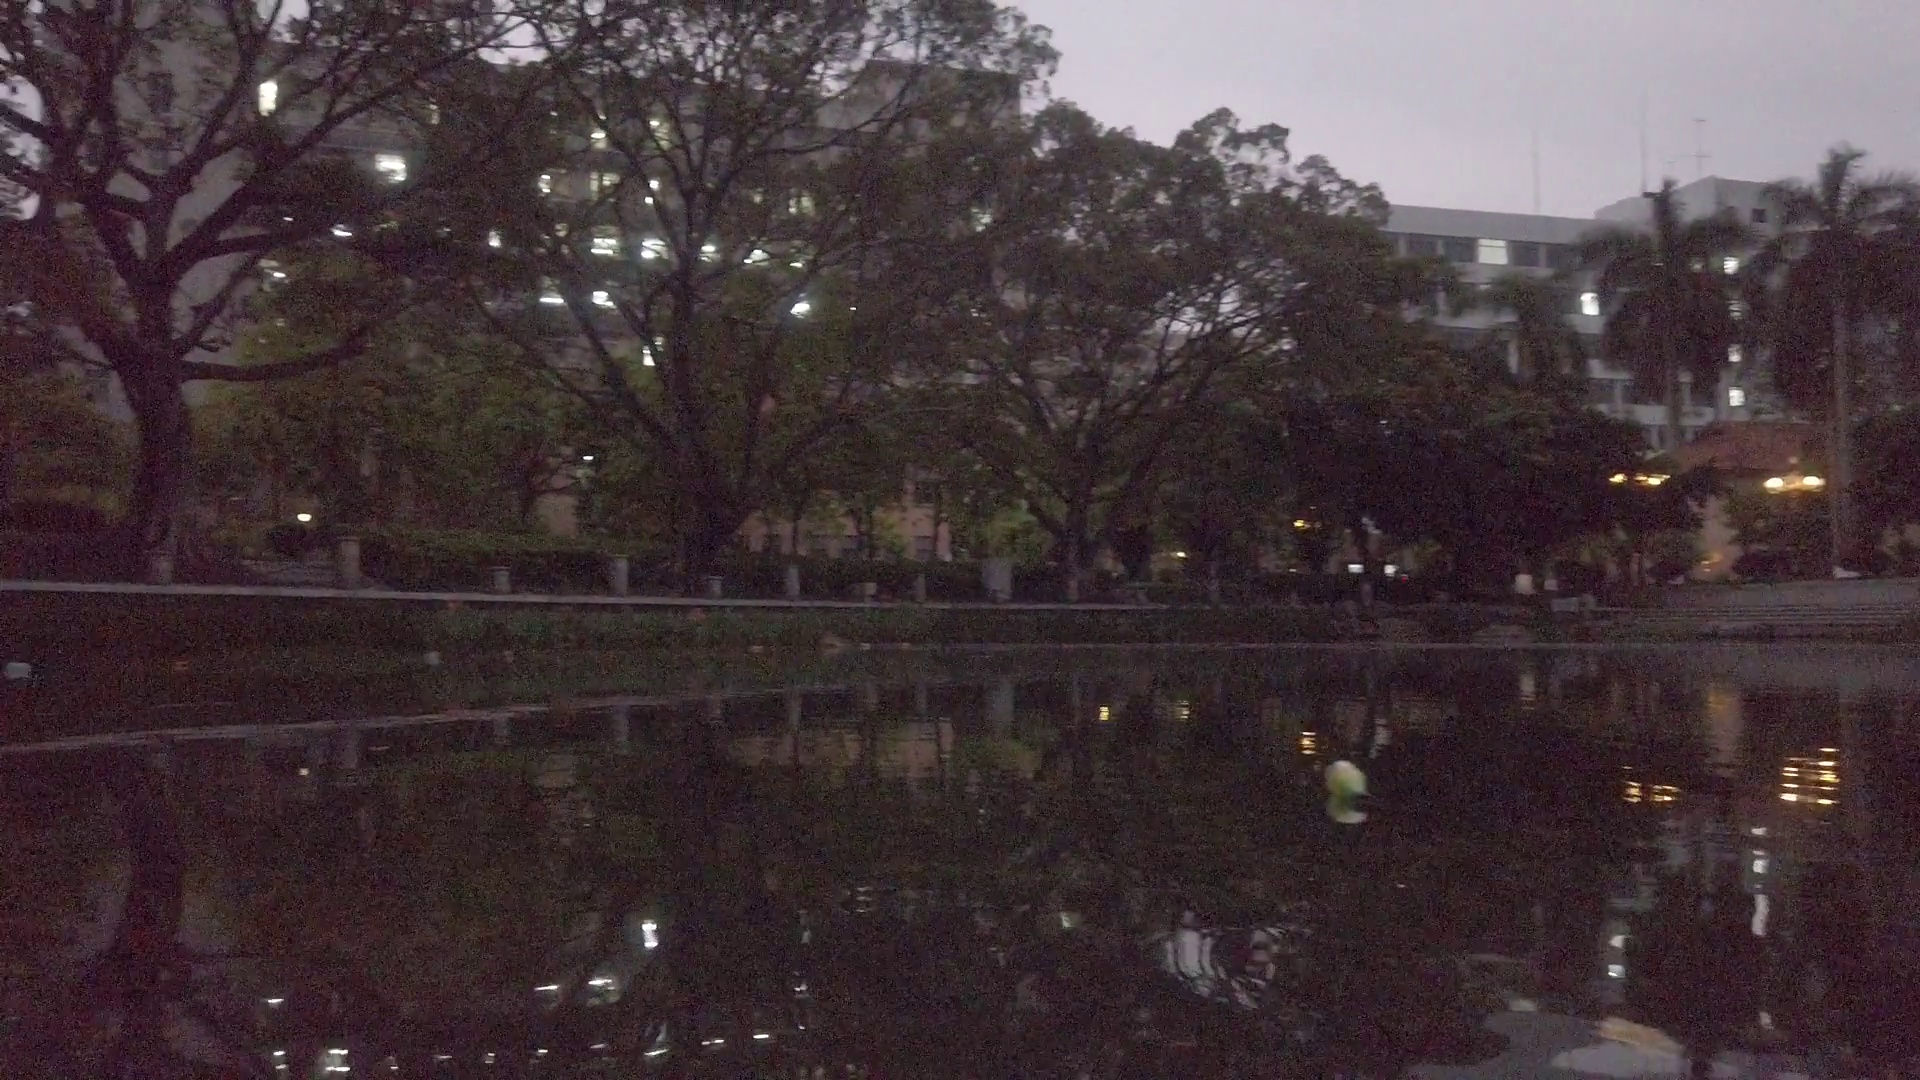bottle: (1321, 760, 1375, 814), (167, 655, 194, 673), (419, 647, 440, 665), (746, 640, 767, 657), (858, 642, 873, 653), (897, 638, 910, 649)
carton: (8, 658, 33, 683)
